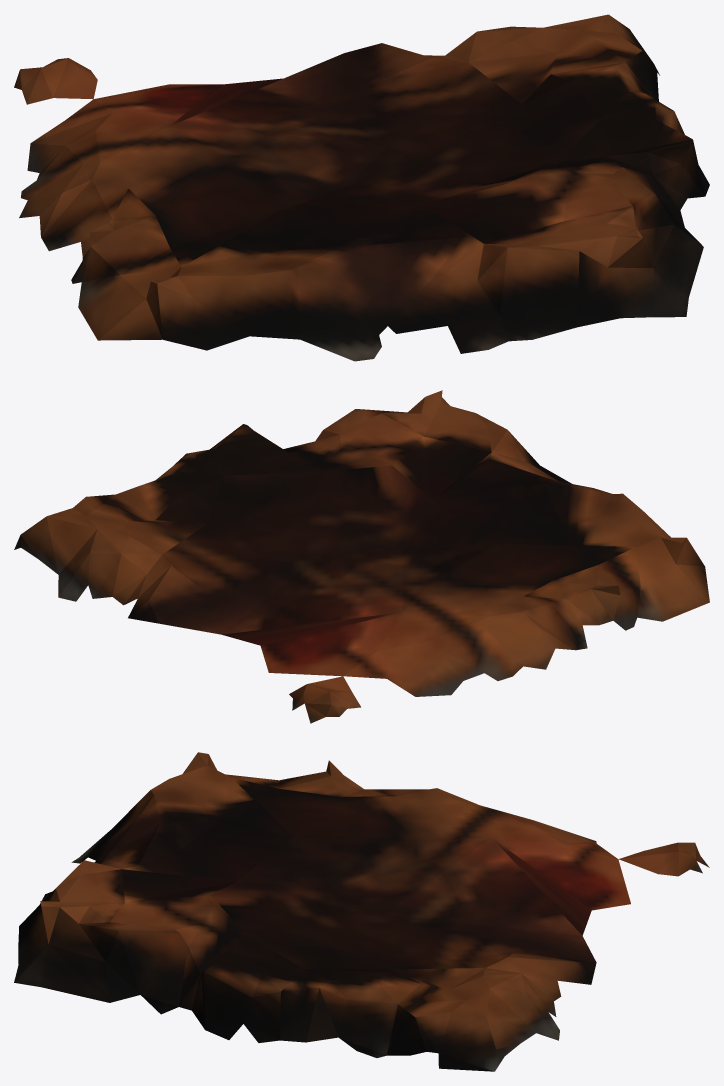
The model's file is salvage_raft_photogrammetry_scan.three-web-toon.lod25.glb.
The picture shows the model from 3 angles, top to bottom: view 1: azimuth 30°, elevation 25°; view 2: azimuth 150°, elevation 25°; view 3: azimuth 270°, elevation 25°; orthographic projection. The views are drawn at different scales.
Visible parts, largest first — view 1: texturedMesh_lod; view 2: texturedMesh_lod; view 3: texturedMesh_lod.
Boxes of the visible parts, bbox=[...] form: texturedMesh_lod: bbox=[14, 14, 709, 361]; texturedMesh_lod: bbox=[14, 390, 709, 723]; texturedMesh_lod: bbox=[14, 752, 709, 1071].
Size of the model in its own units: 2.4 by 0.2567 by 2.39.
Materials: 1 (1 with a texture image).
